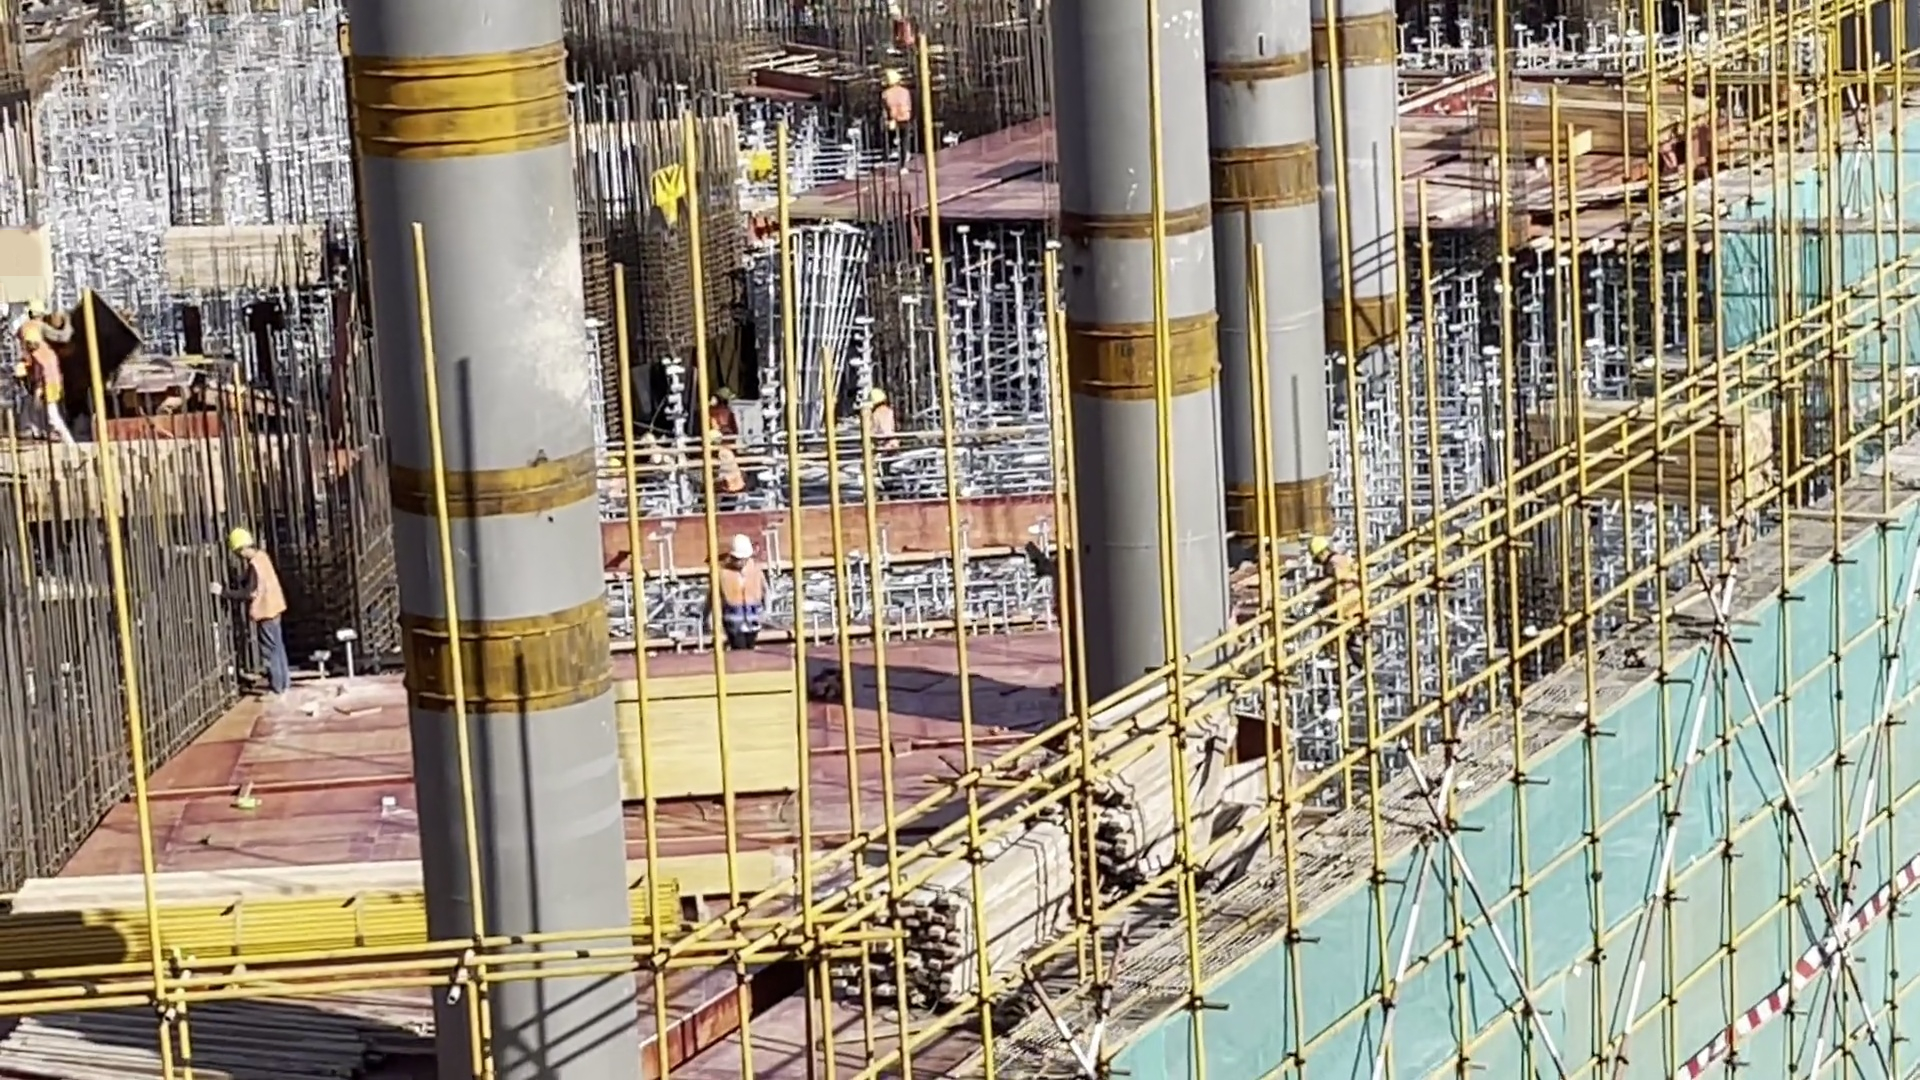helmet: (716, 523, 757, 569), (224, 526, 254, 560), (876, 68, 911, 96), (868, 389, 890, 410)
person: (211, 520, 293, 698), (690, 524, 774, 663), (9, 319, 84, 468), (1296, 539, 1384, 645), (877, 68, 940, 169), (846, 390, 912, 484), (702, 441, 758, 527), (697, 388, 749, 438)
vest: (237, 554, 290, 629), (715, 569, 767, 637), (22, 341, 60, 407), (881, 87, 912, 126)
